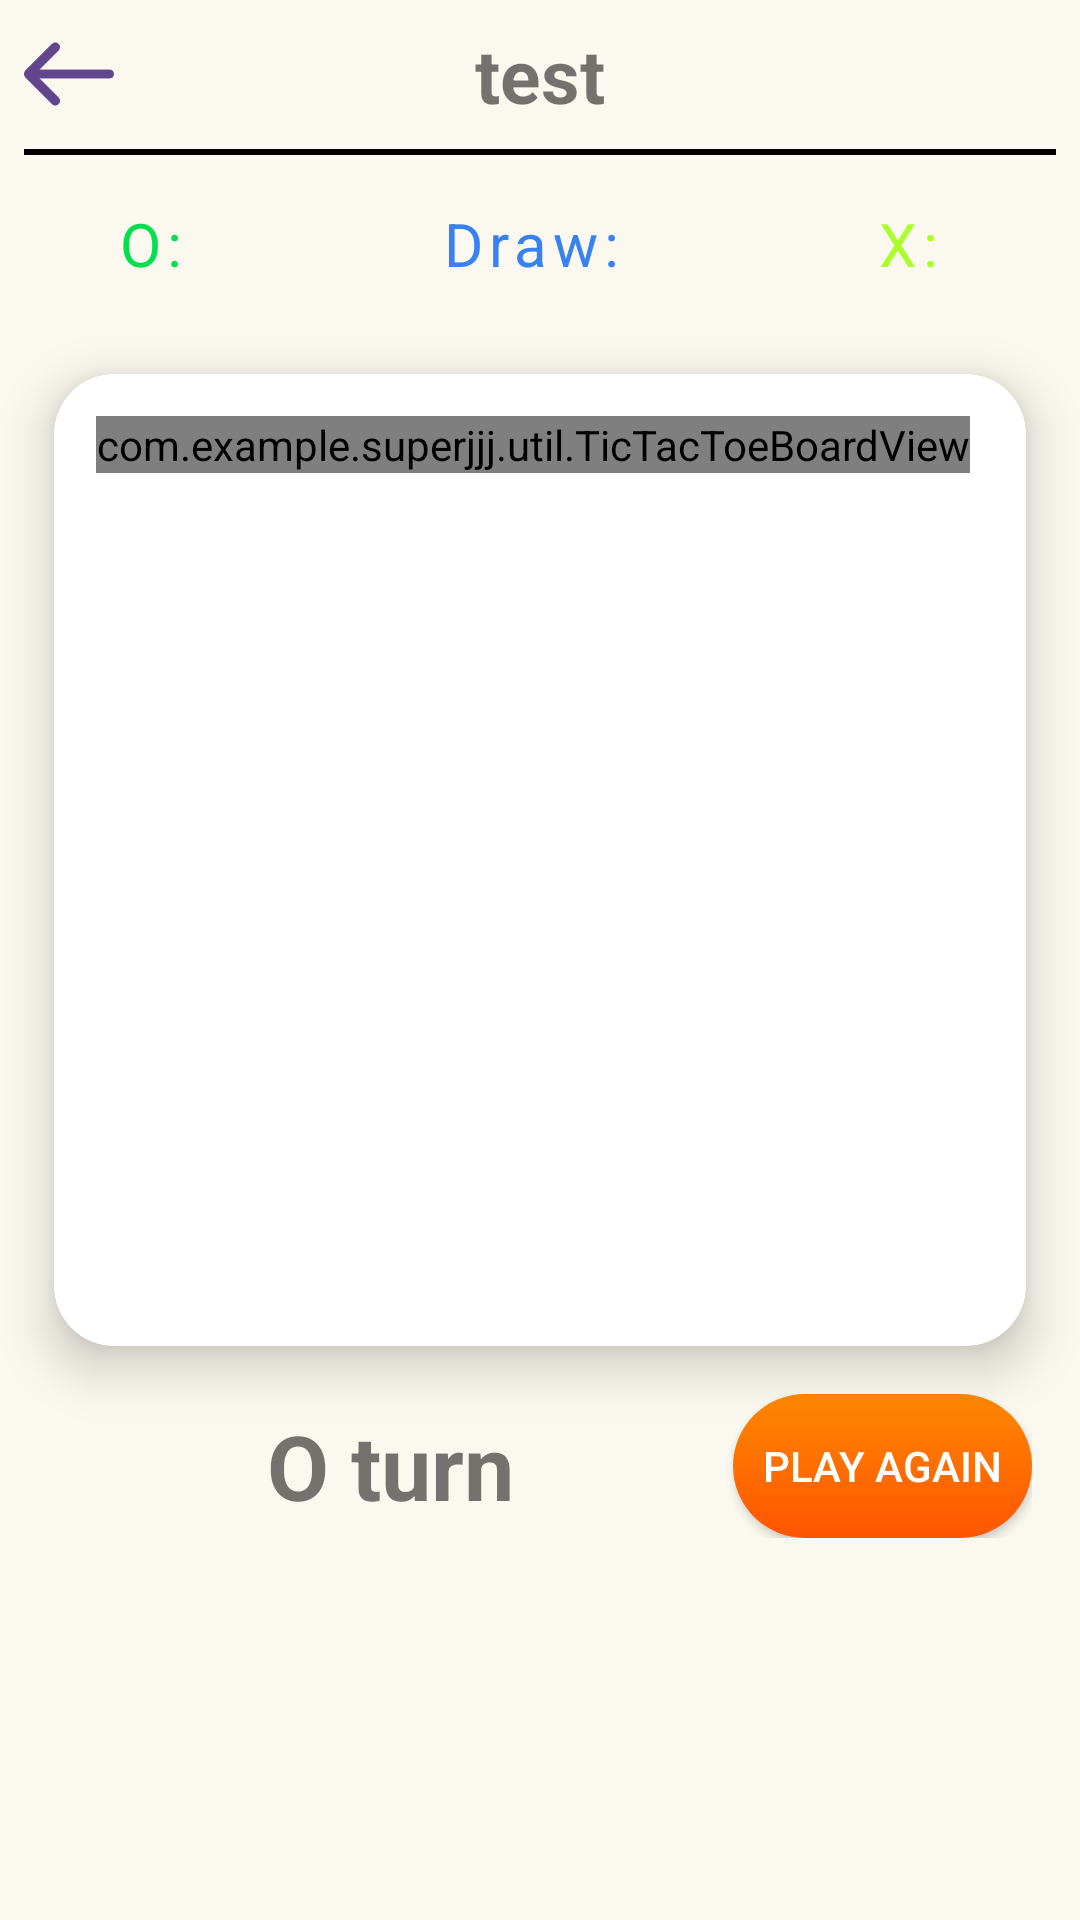

Named icons in this screenshot (1080w x 1920h) and their centers, (x=x, y=y):
back: (x=69, y=74)
